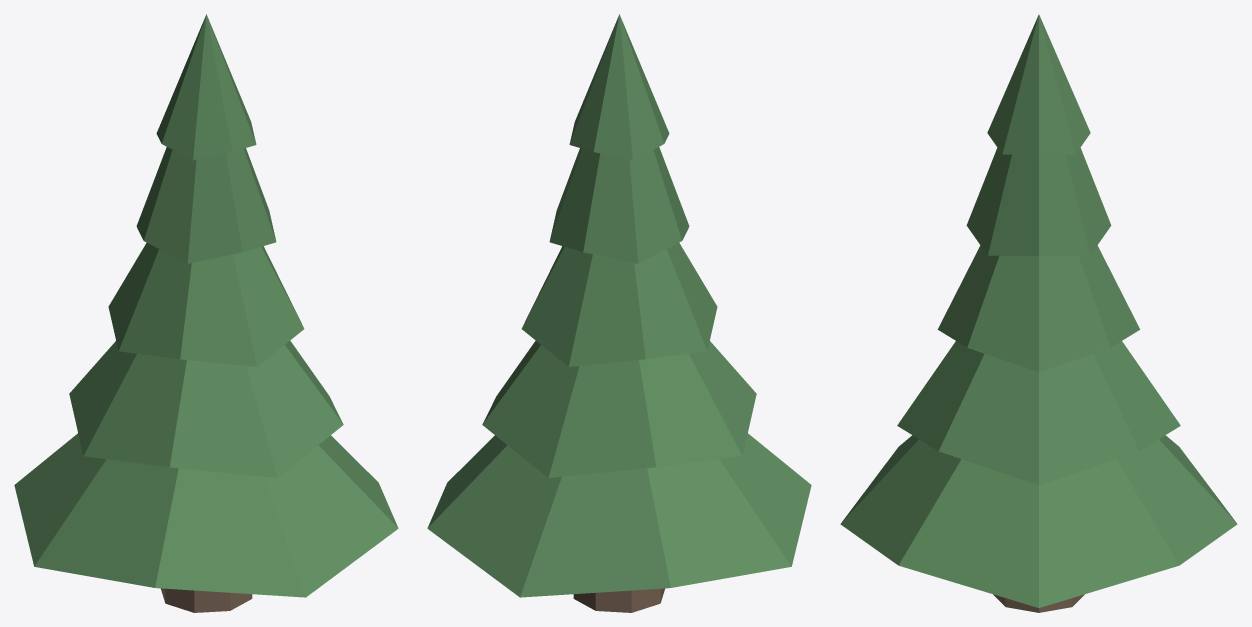
File: fir-tree.fbx
3 views of the same model, side by side, from view 1: azimuth 30°, elevation 25°; view 2: azimuth 150°, elevation 25°; view 3: azimuth 270°, elevation 25° (orthographic).
Visible parts, largest first — view 1: Cone, Cone.001; view 2: Cone, Cone.001; view 3: Cone, Cone.001.
Part boxes in pixels (<box>): Cone: <box>14,14,398,597</box>; Cone.001: <box>160,588,252,612</box>; Cone: <box>427,14,811,597</box>; Cone.001: <box>573,588,665,612</box>; Cone: <box>840,14,1237,607</box>; Cone.001: <box>993,594,1084,612</box>.
Bounding box in the file's own units: 768 × 1235 × 768.
